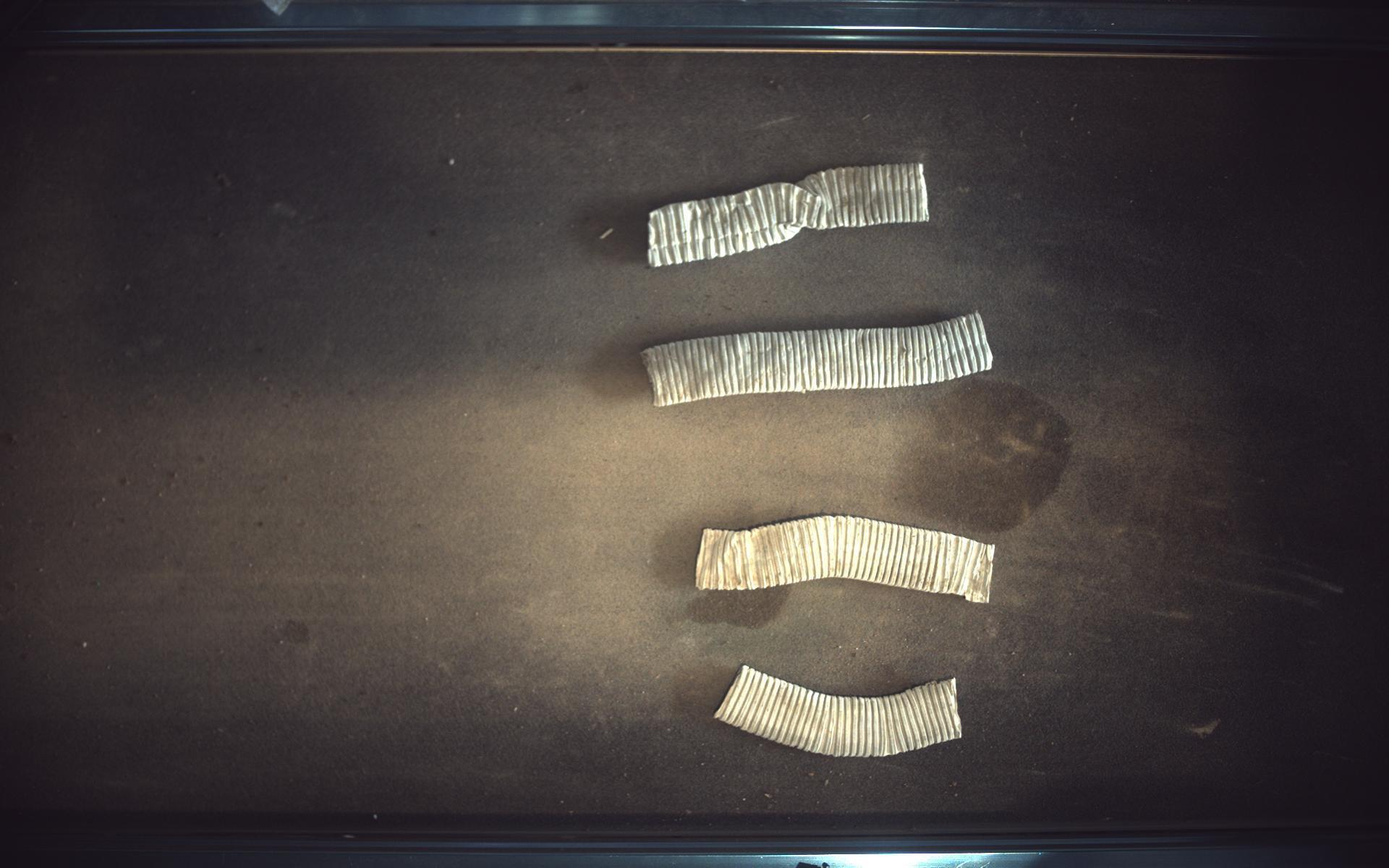pipes: (642, 312, 995, 407), (649, 162, 931, 266), (697, 516, 996, 604), (715, 666, 964, 758)
